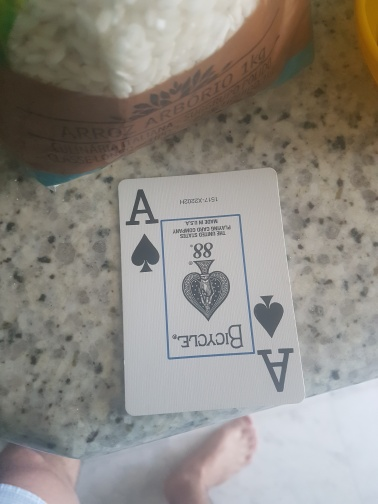ace: (119, 169, 308, 415)
